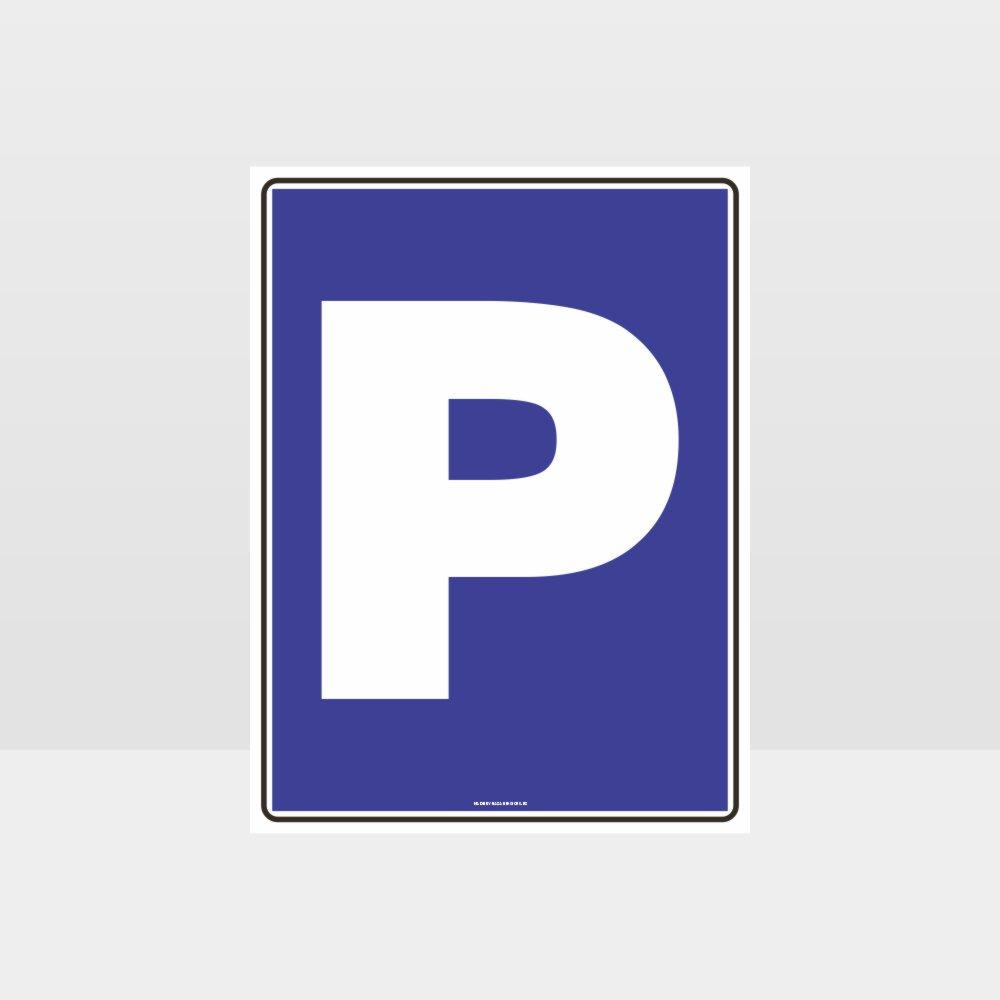parking: (260, 178, 739, 813)
